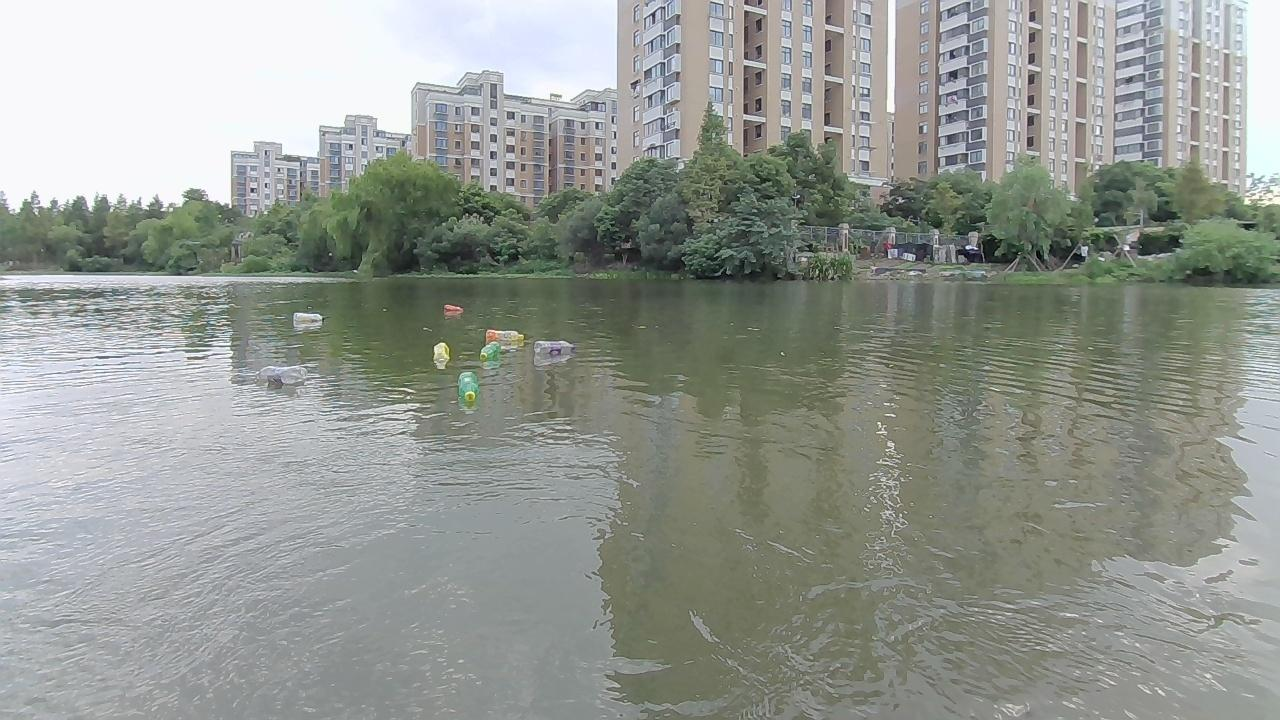bottle: (245, 366, 307, 388), (487, 323, 526, 347), (535, 339, 574, 359), (456, 371, 480, 402), (294, 310, 324, 330), (434, 340, 450, 368), (479, 342, 503, 360), (446, 304, 469, 320)
